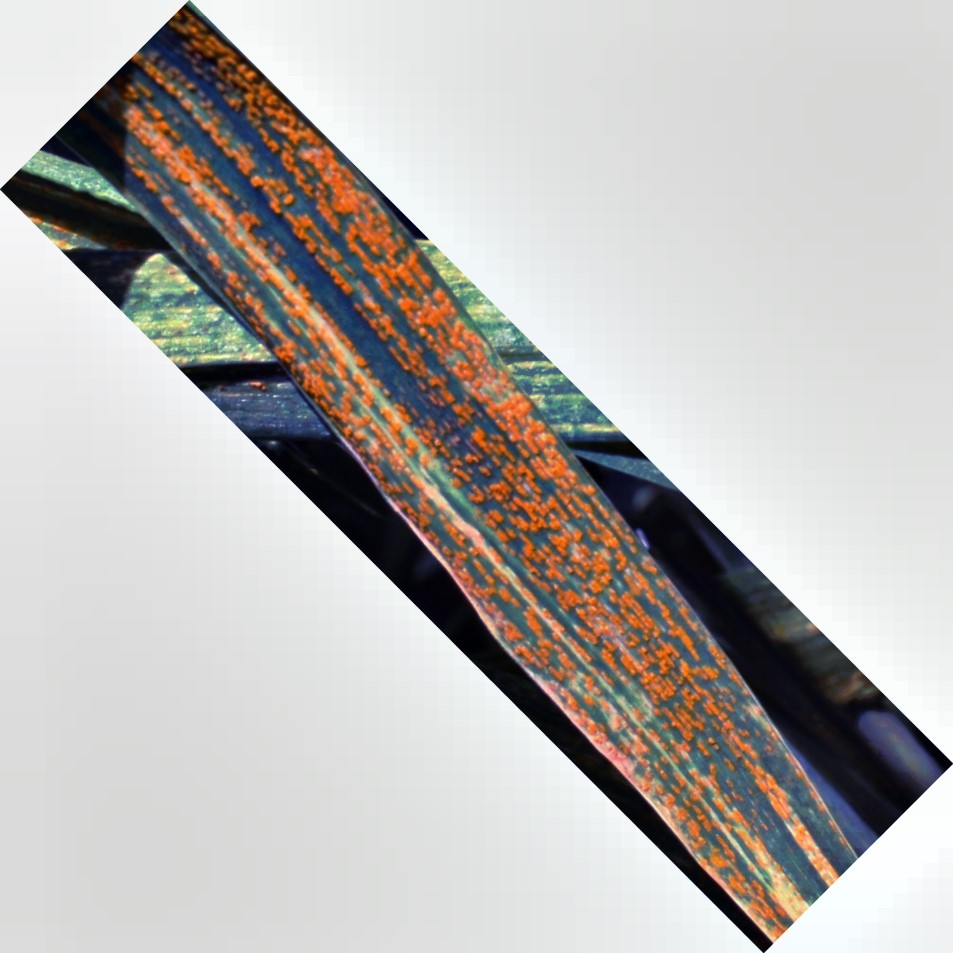Leaf Rust: (161, 104, 819, 882)
